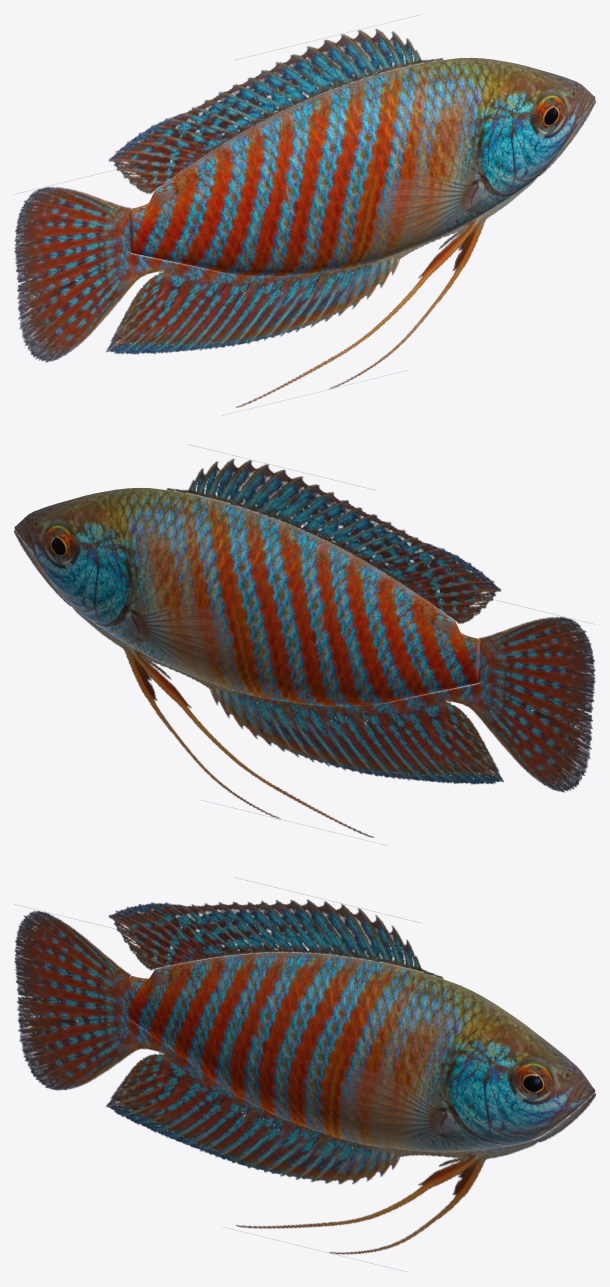
File: species-gourami.glb
3 renders of one model, top to bottom at view 1: azimuth 30°, elevation 25°; view 2: azimuth 150°, elevation 25°; view 3: azimuth 330°, elevation 25°, orthographic.
Visible parts, largest first — view 1: dwarfgourami; view 2: dwarfgourami; view 3: dwarfgourami.
Boxes of the visible parts, left/top/right/bottom form: dwarfgourami: left=14, top=15, right=595, bottom=415; dwarfgourami: left=14, top=445, right=595, bottom=845; dwarfgourami: left=14, top=877, right=595, bottom=1270.
Size of the model in its own units: 0.0601 by 0.0348 by 0.00648.
1 material, 1 textured.
